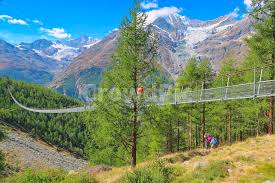mountain: (6, 7, 272, 176)
tree: (108, 10, 163, 176)
